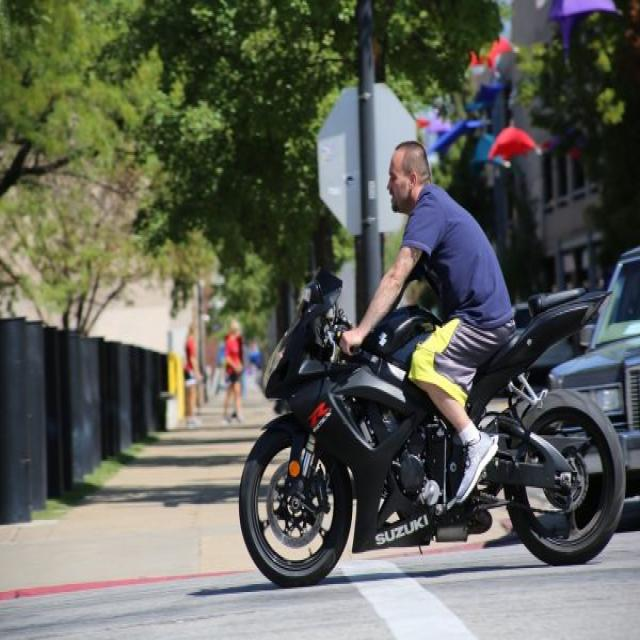Motorcycle: (235, 273, 625, 576)
No-Helmet: (384, 135, 442, 223)
Person: (368, 129, 507, 491)
